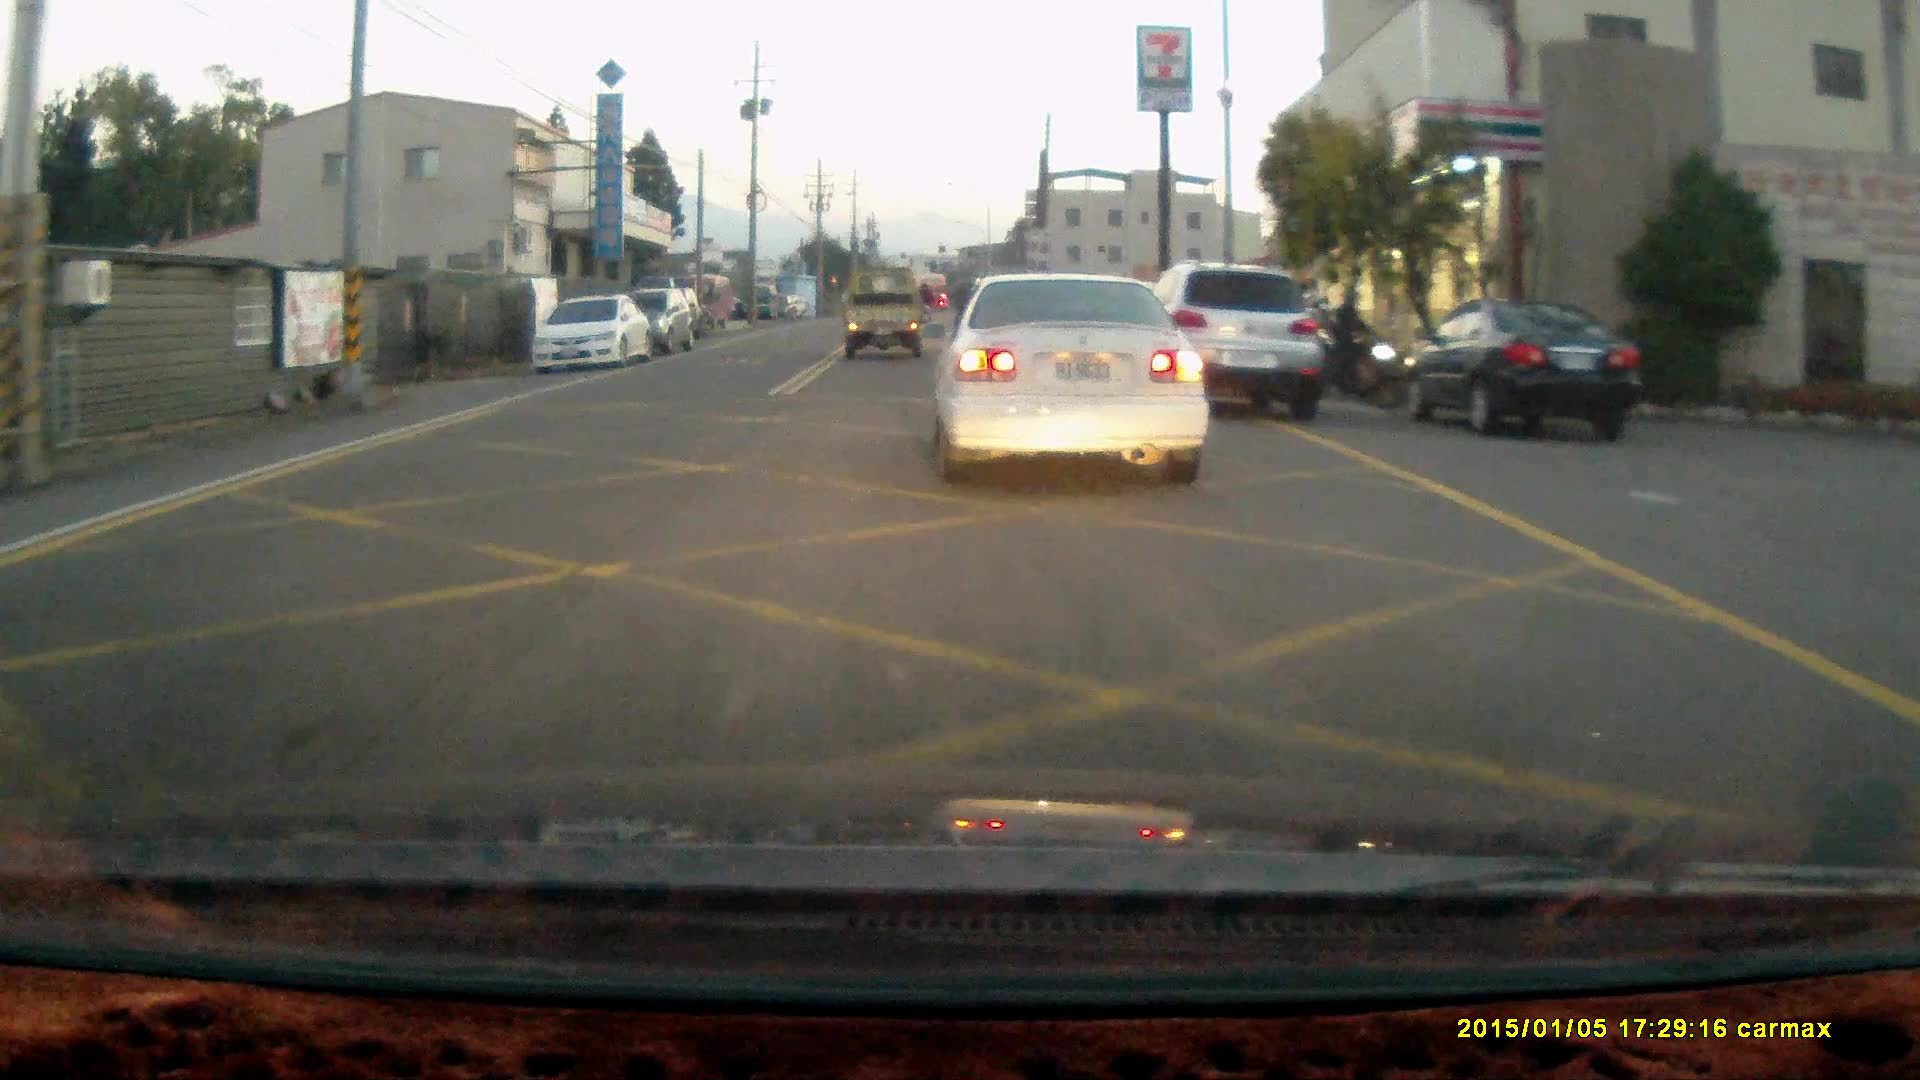rider: (1313, 287, 1404, 408)
vehicle: (950, 274, 1220, 480), (1405, 303, 1636, 438), (1156, 262, 1339, 424), (527, 291, 656, 377), (844, 264, 932, 356), (627, 288, 703, 356)
